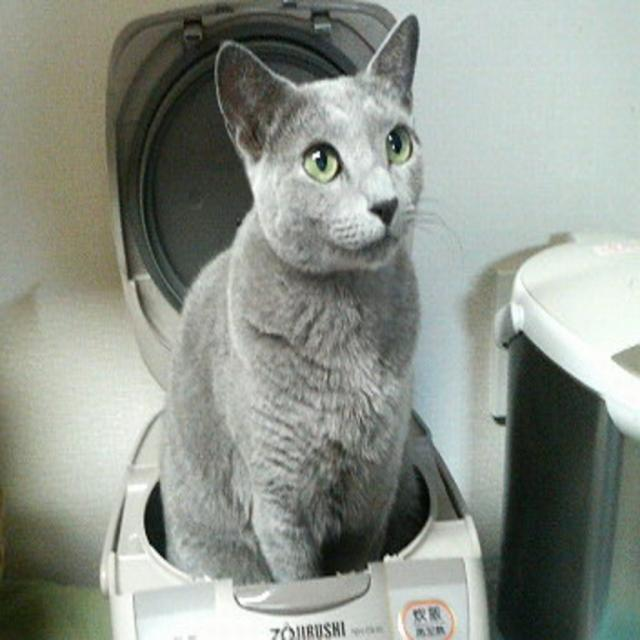Cat: (159, 12, 462, 588)
